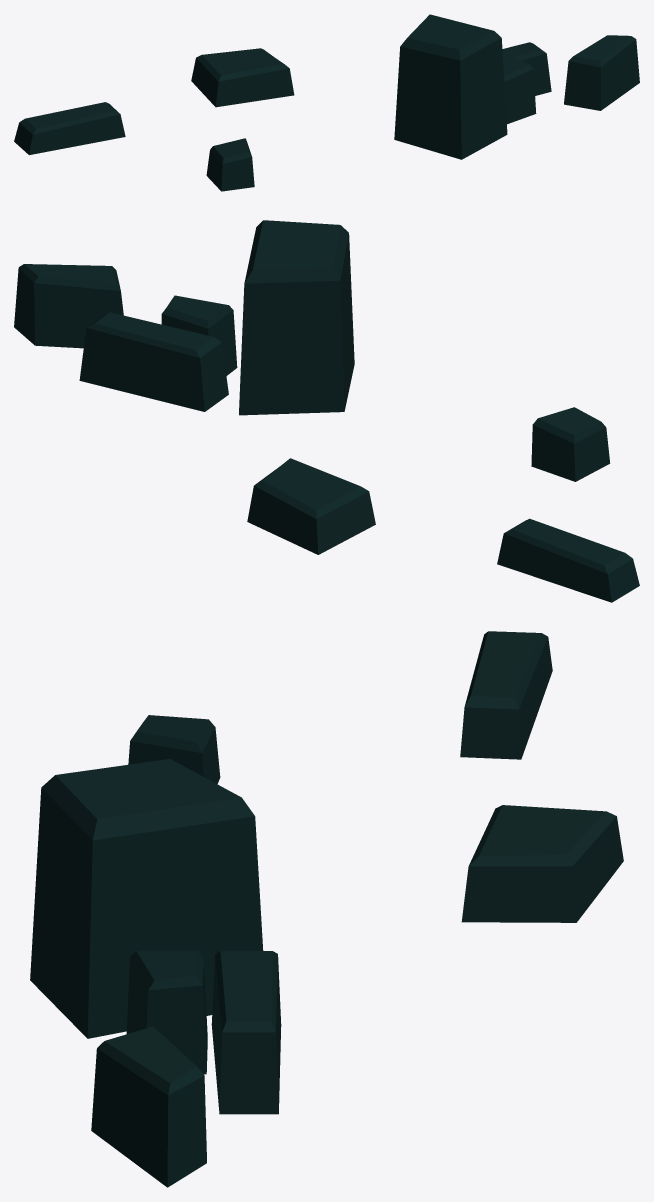
The model's file is stones003_stone_0_lev1.glb.
The picture shows the model from 3 angles, top to bottom: view 1: azimuth 30°, elevation 25°; view 2: azimuth 150°, elevation 25°; view 3: azimuth 270°, elevation 25°; orthographic projection. The views are drawn at different scales.
Visible parts, largest first — view 1: stones003_stone_0_lev1; view 2: stones003_stone_0_lev1; view 3: stones003_stone_0_lev1.
Part boxes in pixels (<box>): stones003_stone_0_lev1: <box>14,14,639,191</box>; stones003_stone_0_lev1: <box>14,220,639,602</box>; stones003_stone_0_lev1: <box>30,631,623,1187</box>.
Bounding box in the file's own units: 1.5 × 0.2822 × 0.7257.
